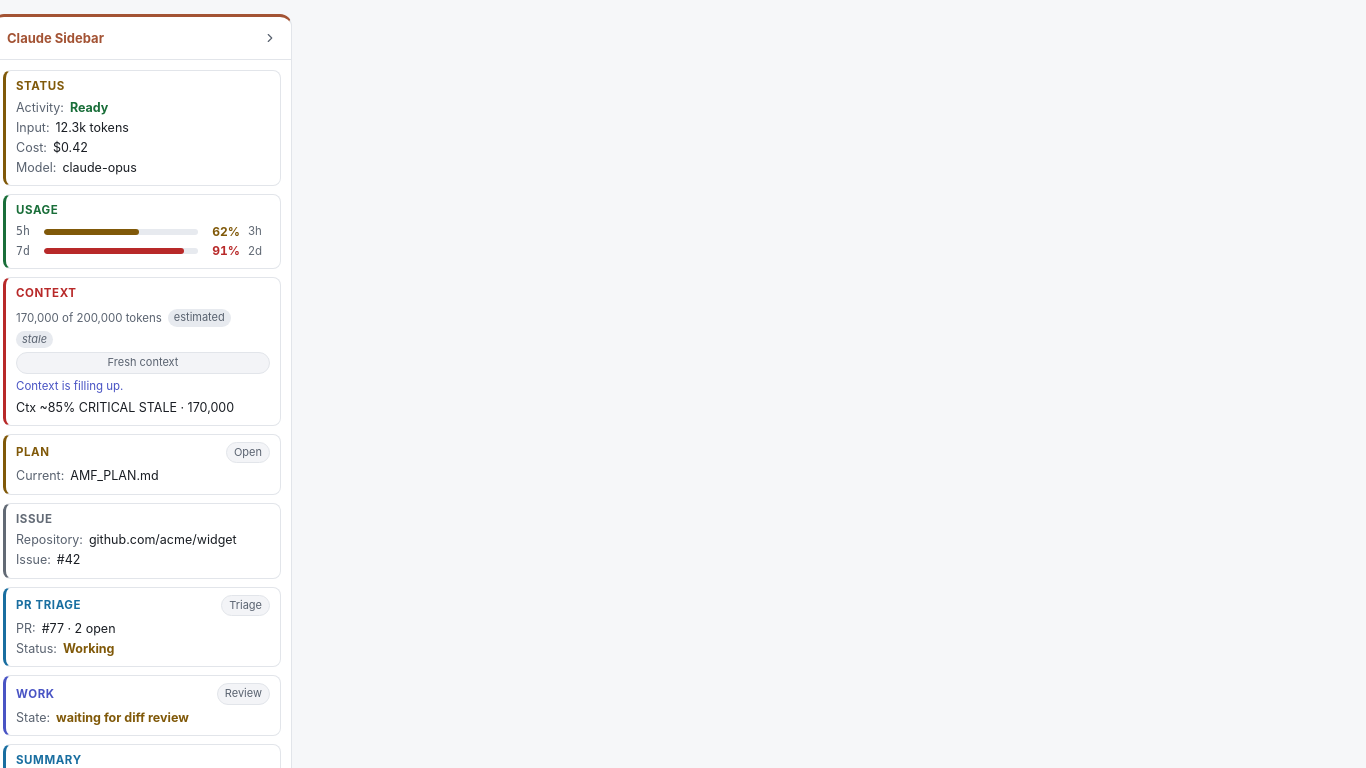
session sidebar › keeps a dismissed plan closed when its read finishes later
Click the button "Open". click: (248, 453)
box: [226,442,270,464]
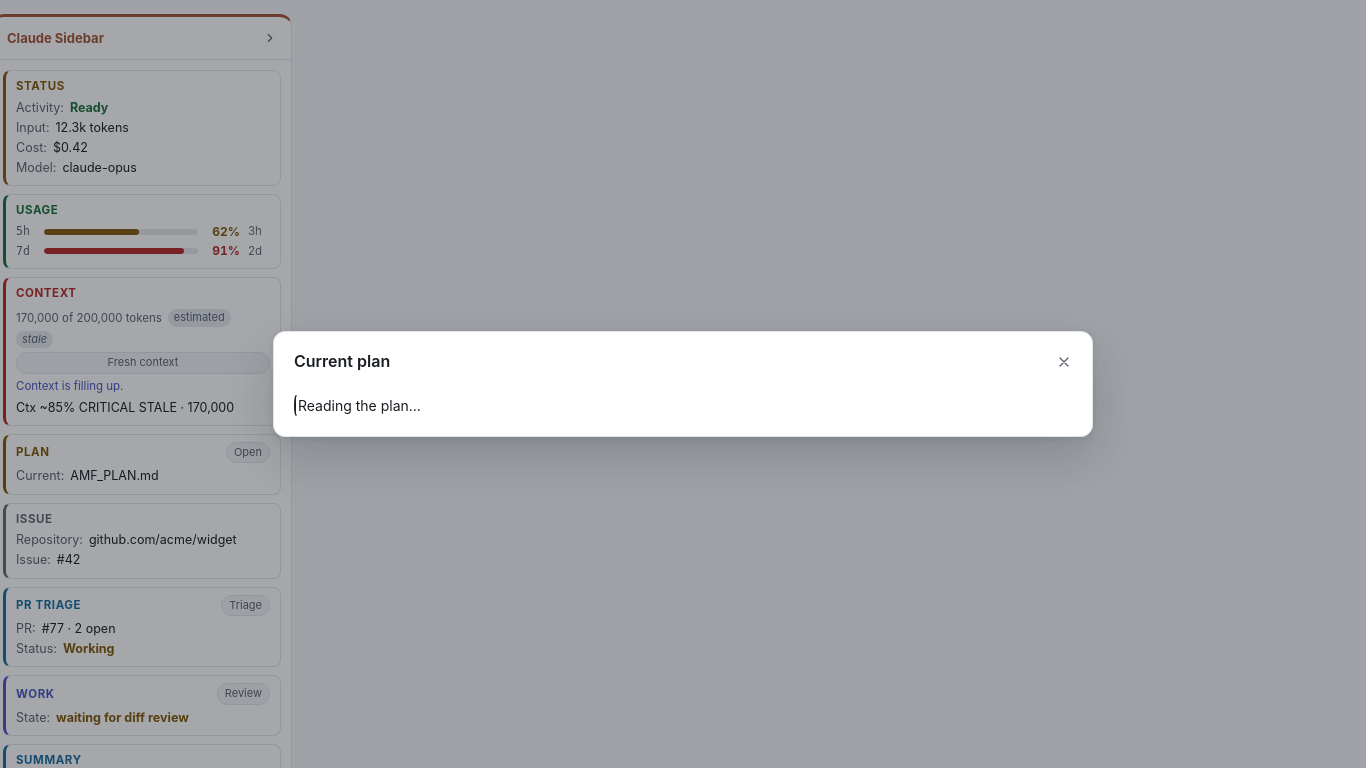
Click the button named "Close". click: (1064, 362)
box: [1048,346,1080,378]
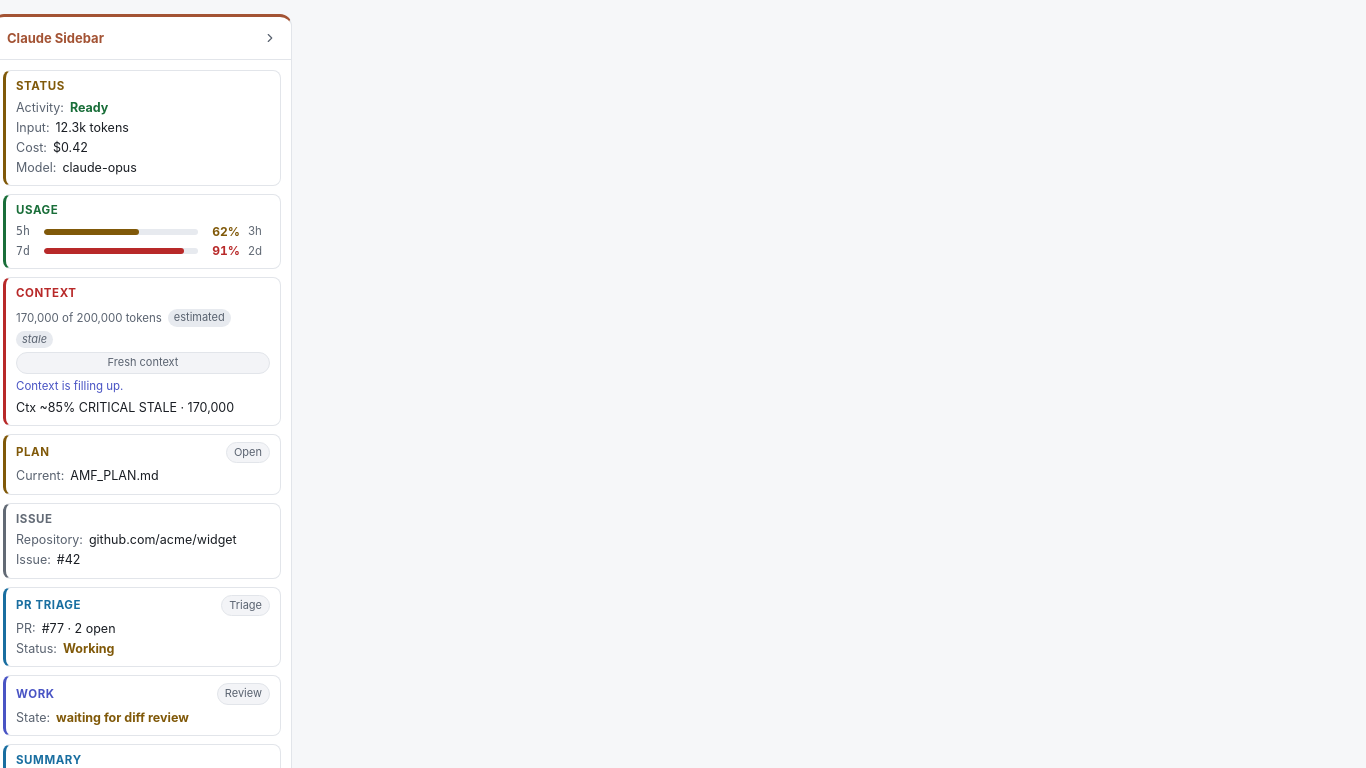
Now the dialog is gone
